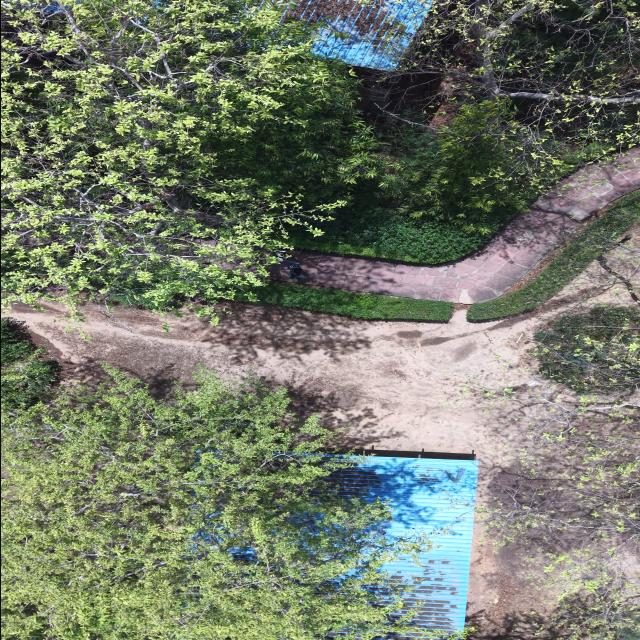DRY_AREA: (3, 269, 631, 504), (2, 270, 627, 454), (6, 300, 538, 503), (5, 284, 581, 459), (7, 301, 535, 458), (7, 301, 546, 444), (10, 302, 525, 450), (290, 147, 639, 302)
ROOFTOP_BUILDING: (328, 449, 477, 637), (328, 450, 477, 636), (289, 0, 430, 69)
VEGETATION_TREE: (1, 0, 639, 310), (2, 0, 638, 310), (2, 0, 472, 311), (2, 323, 442, 639), (2, 0, 371, 309), (291, 0, 639, 262), (292, 0, 639, 262), (484, 306, 639, 639), (485, 305, 639, 639), (243, 97, 532, 261), (401, 0, 639, 193), (288, 100, 536, 263), (485, 386, 639, 639), (485, 387, 639, 593), (467, 191, 639, 320), (468, 193, 639, 319), (288, 206, 485, 263), (534, 306, 639, 392), (468, 592, 639, 639), (253, 281, 453, 320), (532, 590, 639, 639), (1, 318, 57, 410), (1, 317, 40, 364)
